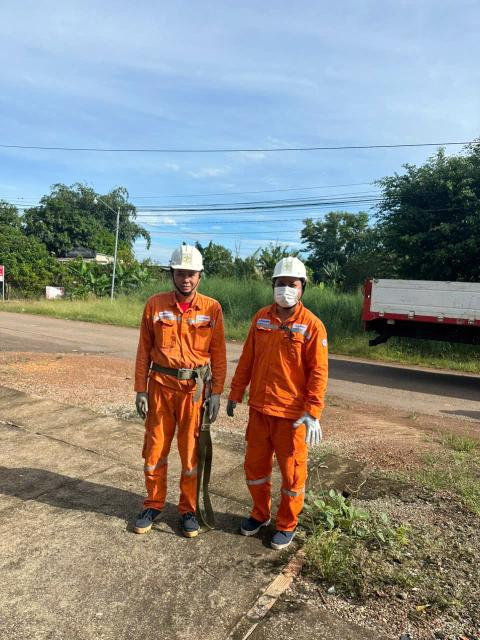gloves: (290, 413, 327, 448), (135, 392, 153, 415), (209, 391, 220, 425)
helmet: (157, 235, 216, 280), (272, 251, 311, 283)
shoes: (129, 493, 161, 534), (174, 502, 205, 538), (240, 510, 271, 537), (272, 516, 296, 550)
